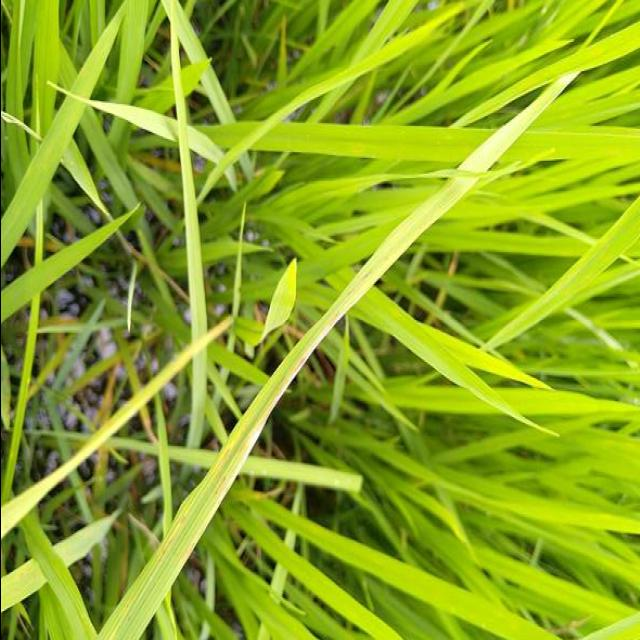Leaf Blight: (94, 74, 571, 640)
